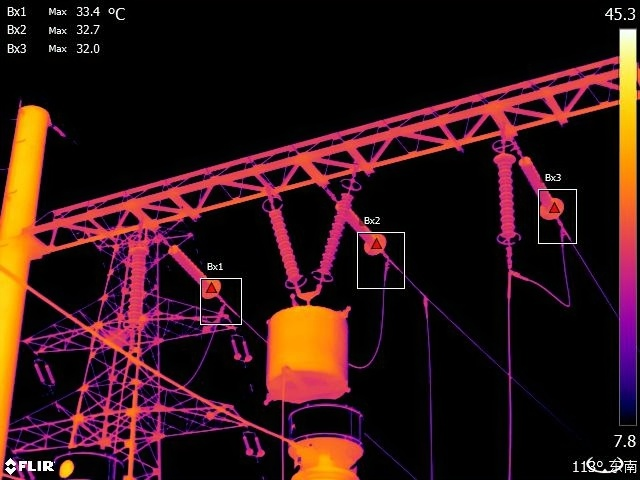clamp: (414, 287, 436, 319), (500, 262, 530, 283), (379, 250, 398, 278), (550, 221, 570, 244)
current transformer: (276, 393, 375, 480), (45, 448, 132, 480)
insulator: (313, 169, 365, 290), (261, 192, 308, 288), (164, 240, 231, 302), (519, 150, 571, 227), (489, 149, 521, 247), (338, 197, 388, 259), (121, 237, 149, 335), (225, 330, 256, 367), (239, 428, 270, 461)
wave trap: (257, 295, 360, 408)
